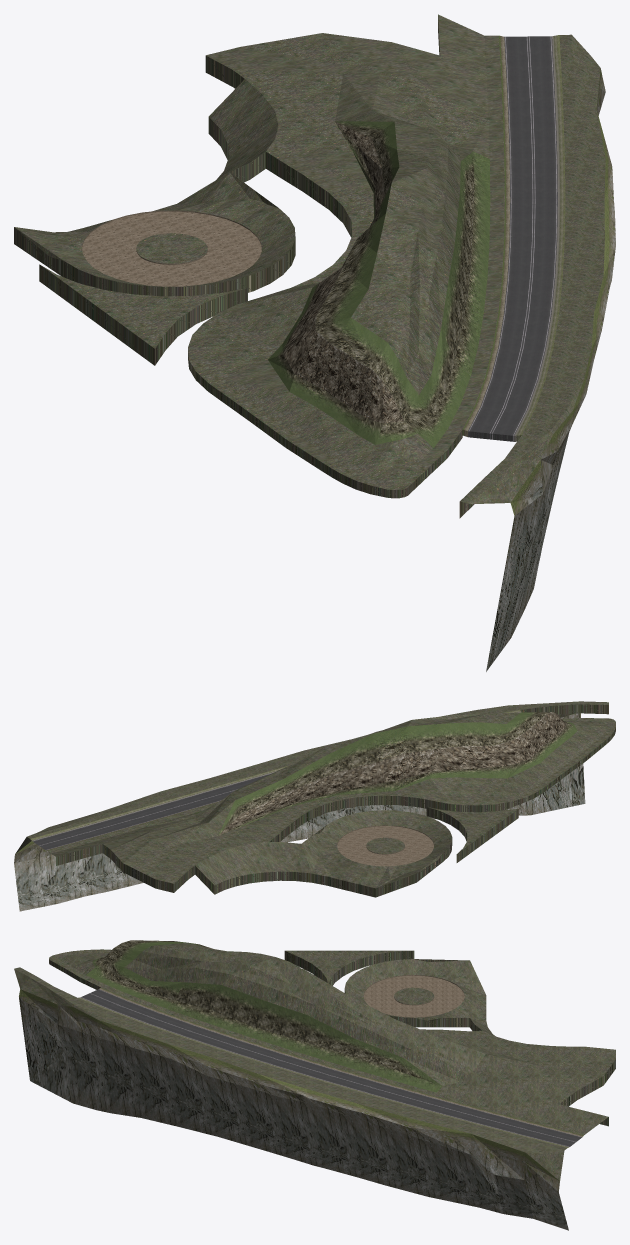
Rendered from cuntwland37_sfs.obj.
3 views of the same model, one above another, from view 1: azimuth 30°, elevation 25°; view 2: azimuth 150°, elevation 25°; view 3: azimuth 270°, elevation 25° (orthographic). The views are drawn at different scales.
Parts seen in each view (by area): view 1: cuntwland37_SFS; view 2: cuntwland37_SFS; view 3: cuntwland37_SFS.
Part boxes in pixels (x1,y1,x2,y2): cuntwland37_SFS: (14,14,615,671); cuntwland37_SFS: (14,701,615,911); cuntwland37_SFS: (14,940,615,1230).
Bounding box in the file's own units: 202 × 78.46 × 270.
10 materials, 10 textured.
